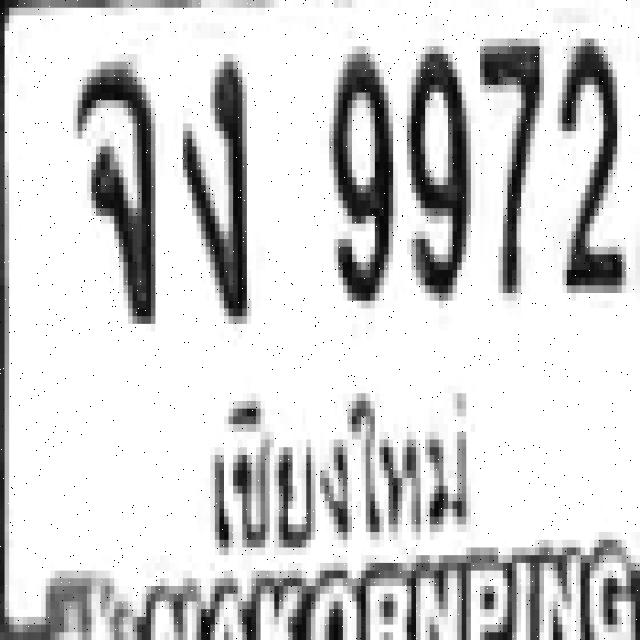16NgorNgu: (178, 46, 246, 316)
17ChorChan: (73, 54, 151, 316)
2: (558, 35, 622, 289)
7: (476, 31, 540, 293)
9: (402, 39, 467, 293), (324, 47, 388, 300)
ChiangMai: (182, 374, 483, 544)
